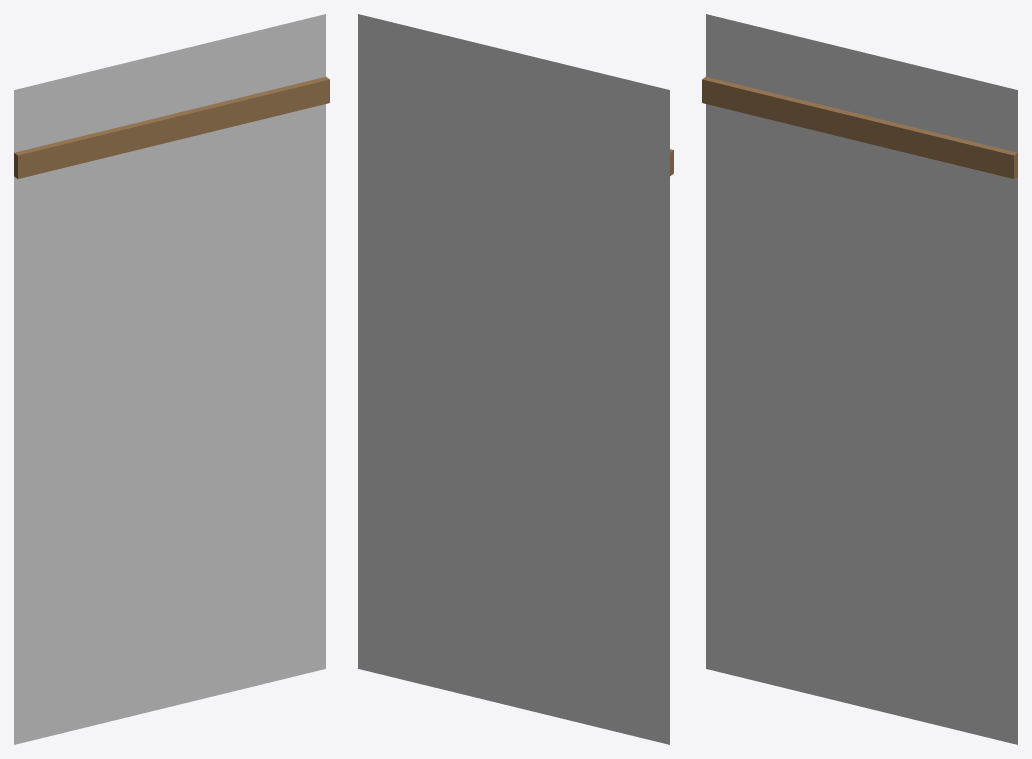
Rendered from mod_paredCentro.fbx.
3 renders of one model, left to right at view 1: azimuth 30°, elevation 25°; view 2: azimuth 150°, elevation 25°; view 3: azimuth 330°, elevation 25°, orthographic.
Parts seen in each view (by area): view 1: Pared_Medio_low; view 2: Pared_Medio_low; view 3: Pared_Medio_low.
Part boxes in pixels (box(x1,y1,x2,y2)): Pared_Medio_low: box(14, 14, 329, 744); Pared_Medio_low: box(358, 14, 673, 744); Pared_Medio_low: box(702, 14, 1017, 744).
Bounding box in the file's own units: 118 × 238 × 2.5.
